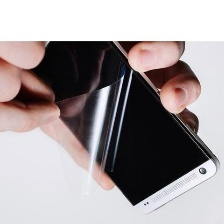phone: (0, 10, 222, 216)
